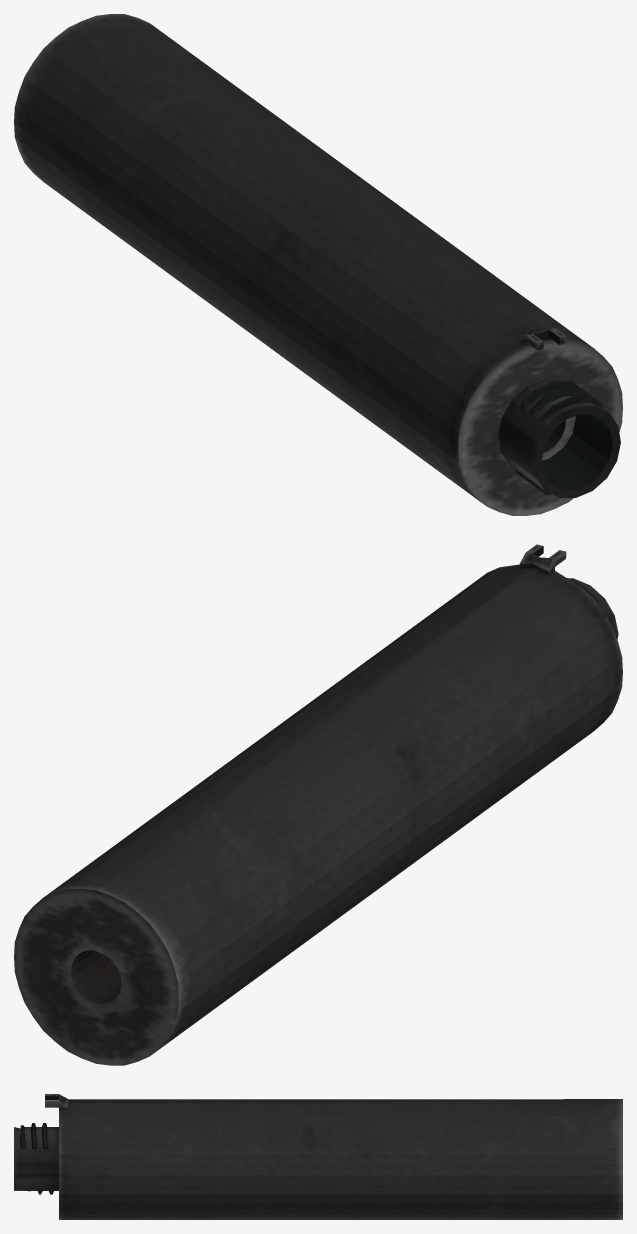
The picture shows the model from 3 angles, top to bottom: view 1: azimuth 30°, elevation 25°; view 2: azimuth 150°, elevation 25°; view 3: azimuth 270°, elevation 25°; orthographic projection. The views are drawn at different scales.
Visible parts, largest first — view 1: TW_57f3c8cc2459773ec4480328_PZ_Import; view 2: TW_57f3c8cc2459773ec4480328_PZ_Import; view 3: TW_57f3c8cc2459773ec4480328_PZ_Import.
Part boxes in pixels (x1,y1,x2,y2): TW_57f3c8cc2459773ec4480328_PZ_Import: (14, 14, 622, 515); TW_57f3c8cc2459773ec4480328_PZ_Import: (14, 544, 622, 1065); TW_57f3c8cc2459773ec4480328_PZ_Import: (14, 1094, 622, 1219).
Bounding box in the file's own units: 0.0166 × 0.0837 × 0.0176.
1 material, 1 textured.
